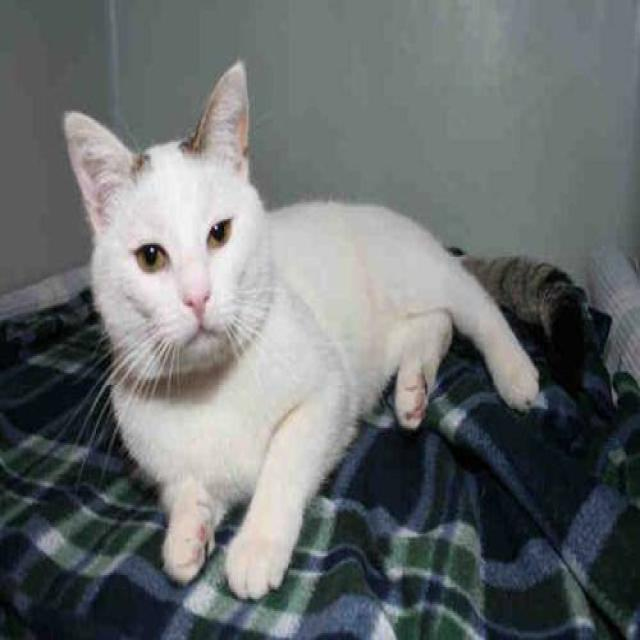cat: (55, 57, 556, 600)
